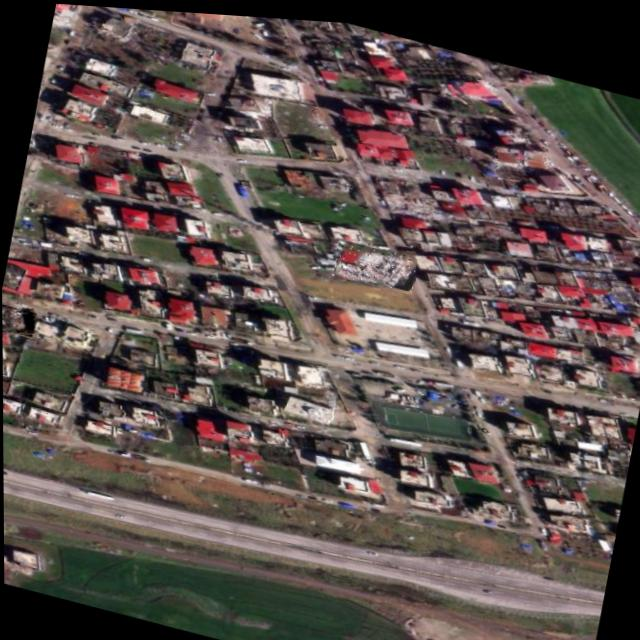Rubble: (332, 230, 419, 289), (2, 301, 37, 339)
